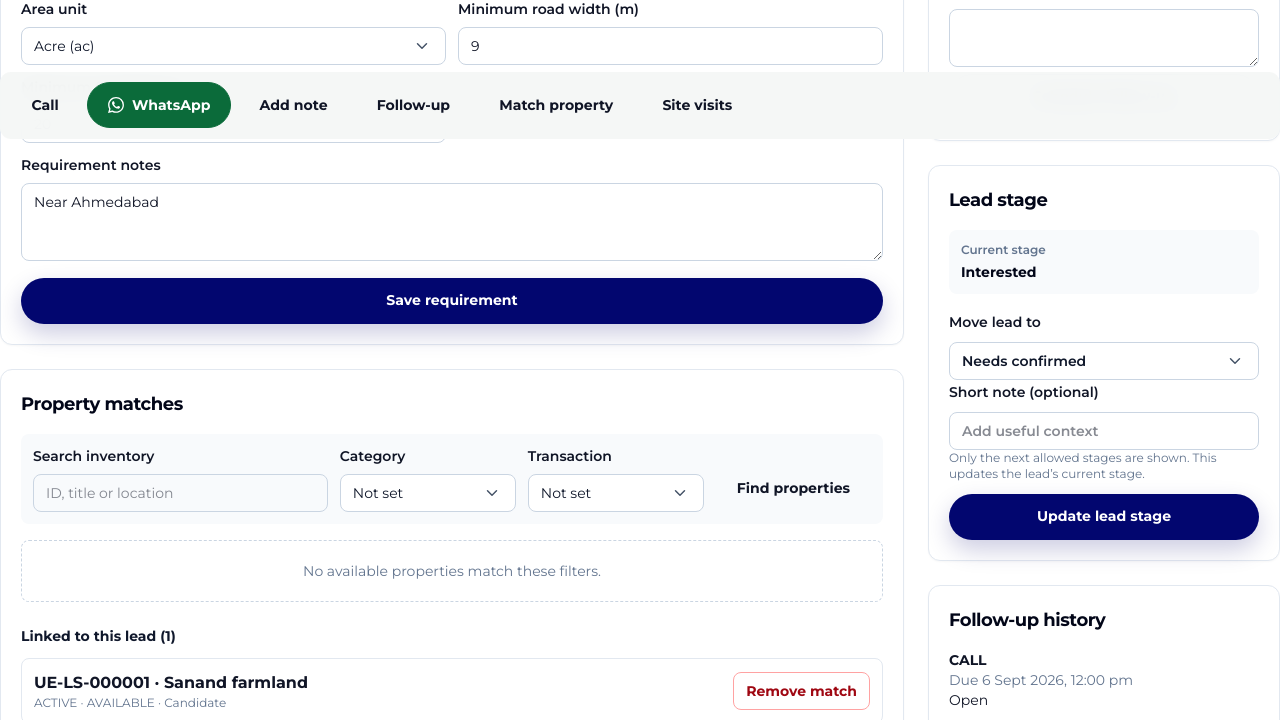
Scenario: M12 CRM components › renders the operational lead workspace controls and attributed history
(page scrolled)
Check: the heading "Property matches" is shown, box [21,393,183,415]
Check: the heading "Lead stage" is shown, box [949,189,1047,211]
Select "Not going ahead" in the dropdown labelled "Move lead to" at (1104, 361), box [949,342,1259,380]
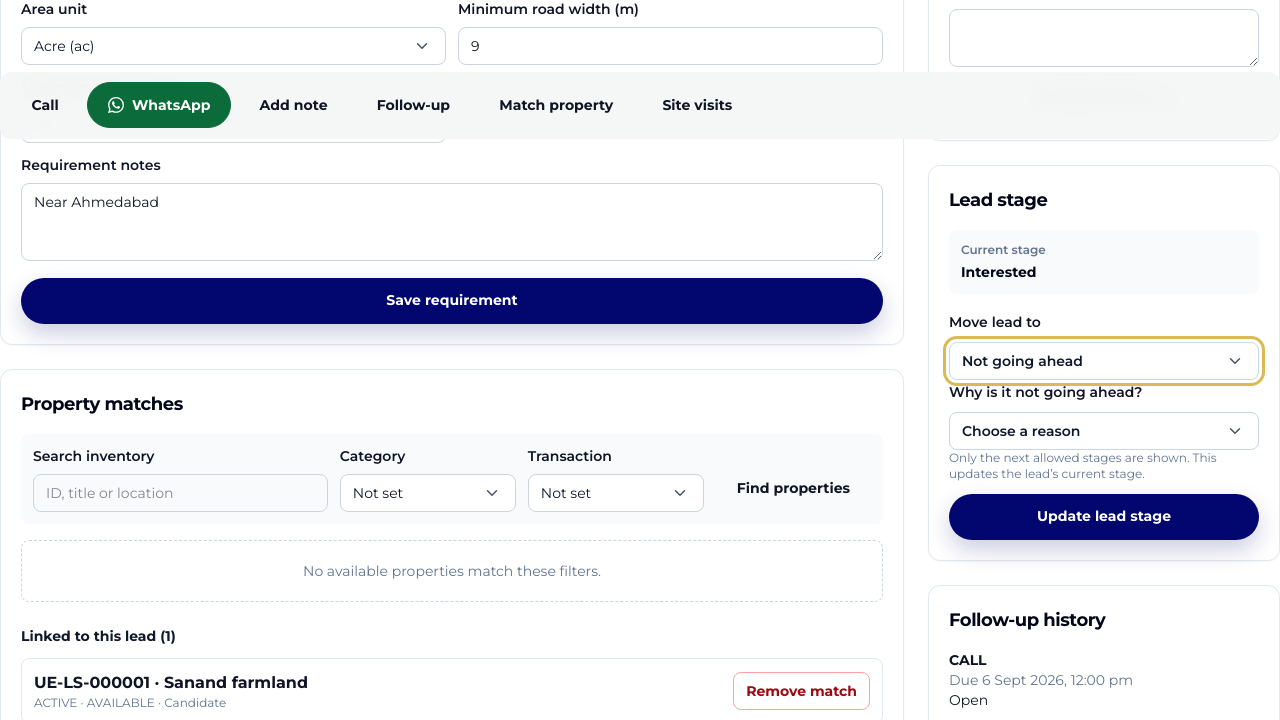
Check: the dropdown labelled "Why is it not going ahead?" is shown, box [949,412,1259,450]
